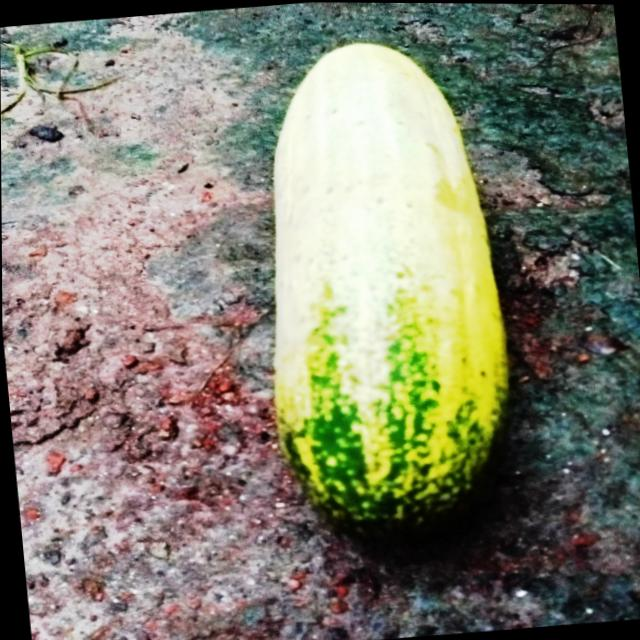Fresh-Cucumber: (241, 27, 524, 539)
